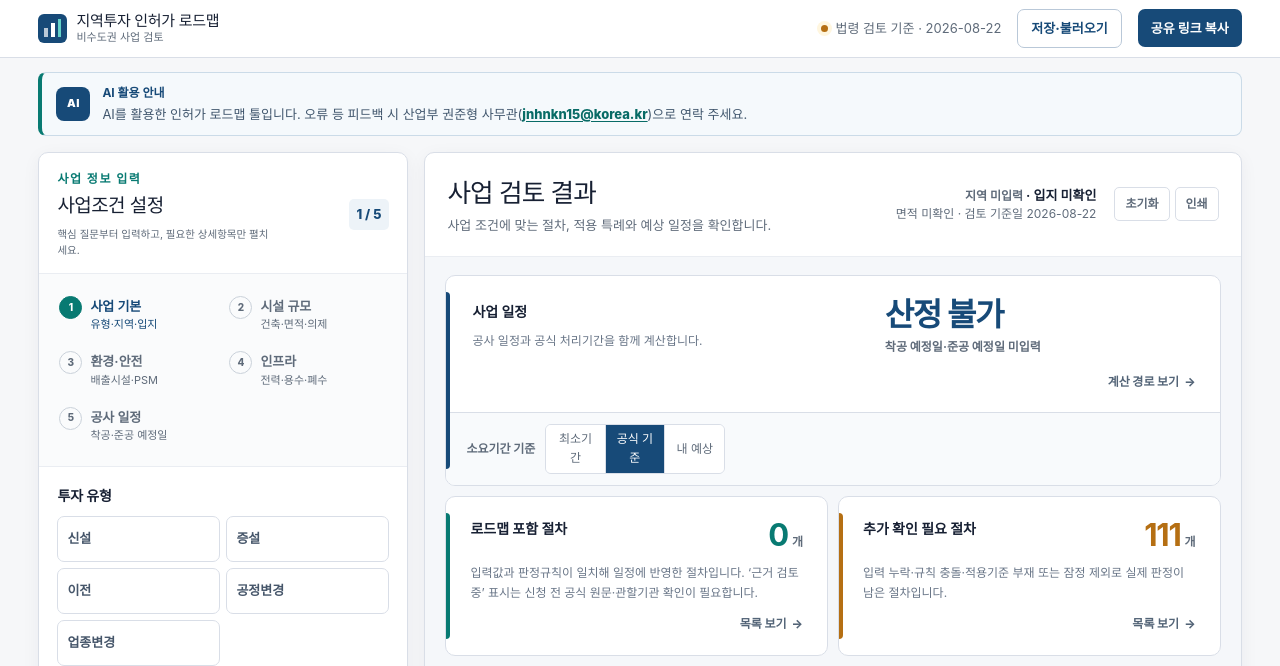
Test: dashboard UI › uses the legacy copy command when the Clipboard API is blocked
Step 1. Click the button with aria-label "입력 코드 저장·불러오기" → (1069, 28), box x1=1017 y1=9 x2=1122 y2=48
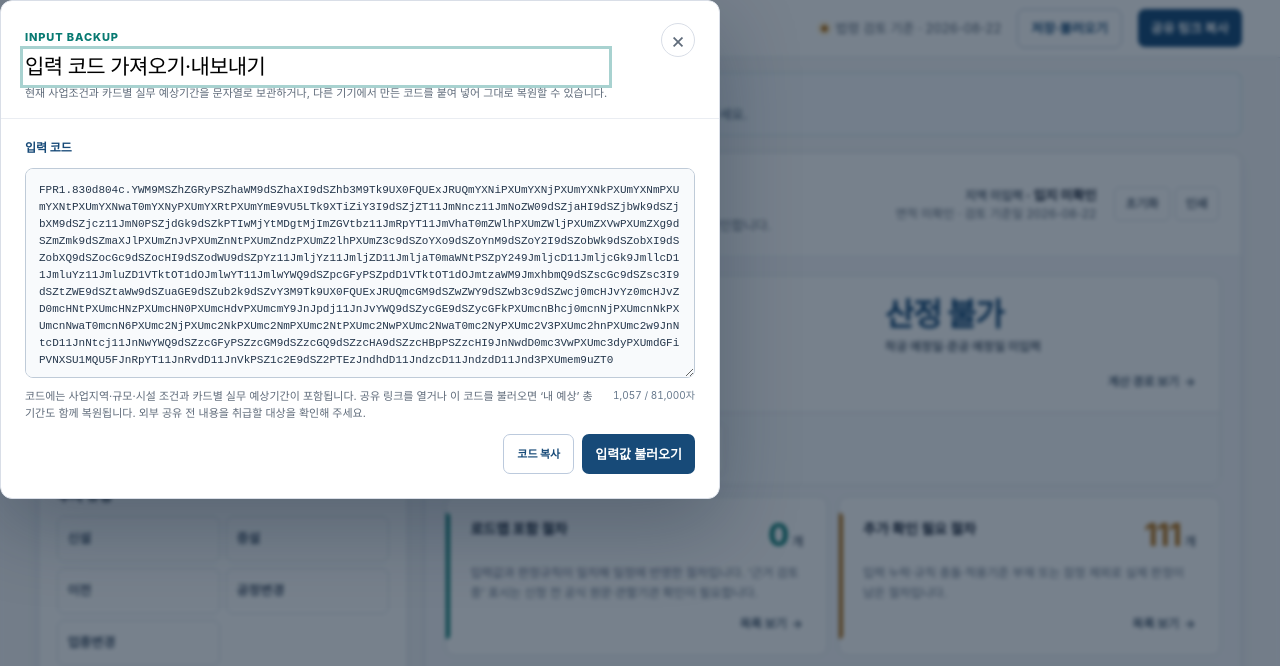
Step 2. Click the button "코드 복사" → (539, 454), box x1=503 y1=434 x2=574 y2=474
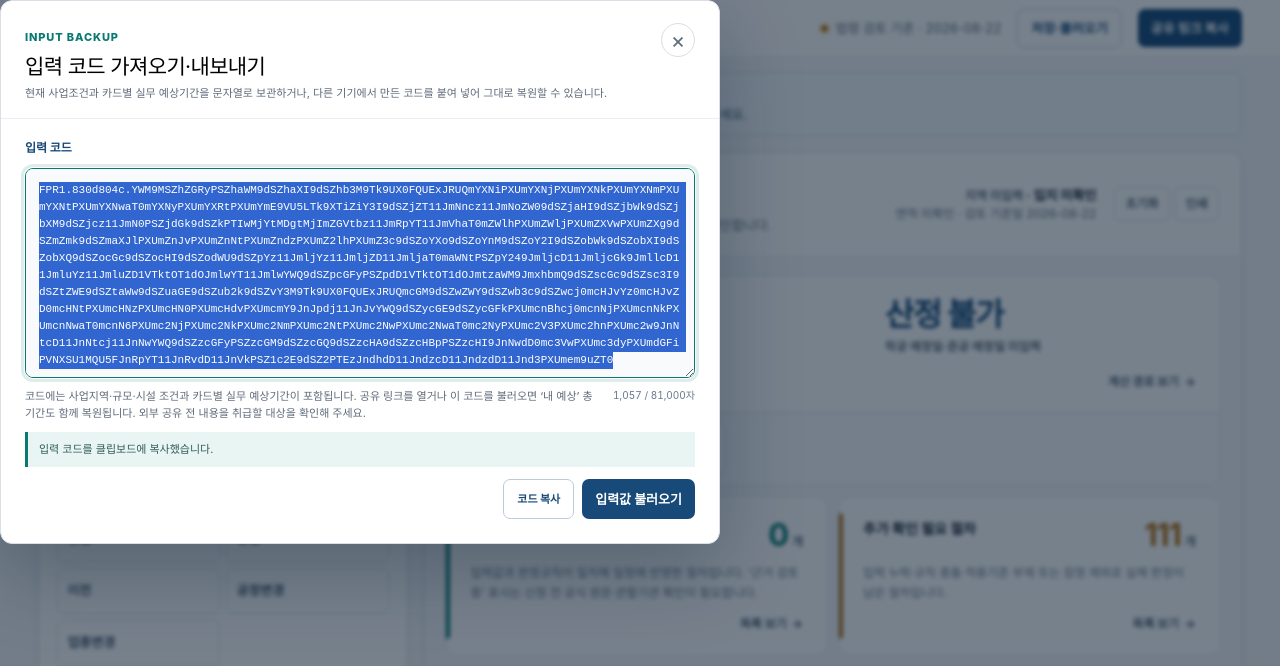
Result: the message shows "클립보드에 복사" at x1=39 y1=442 x2=213 y2=456
